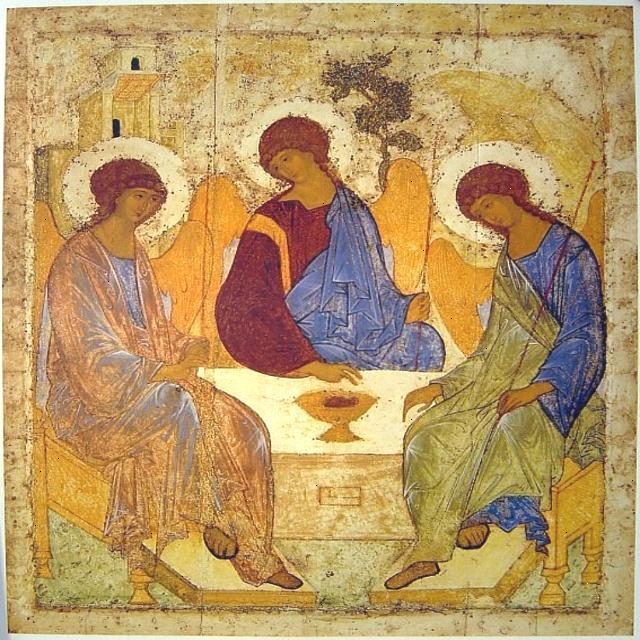angel: (32, 136, 238, 599), (413, 113, 599, 607), (212, 91, 442, 373)
aura: (436, 141, 566, 246), (64, 134, 191, 236), (236, 97, 357, 190)
chalice: (291, 389, 388, 449)
wing: (368, 158, 434, 299), (419, 238, 493, 359), (22, 199, 68, 364), (152, 219, 214, 336), (178, 166, 248, 238)
